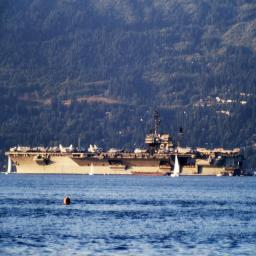Portanaves: (4, 108, 248, 177)
